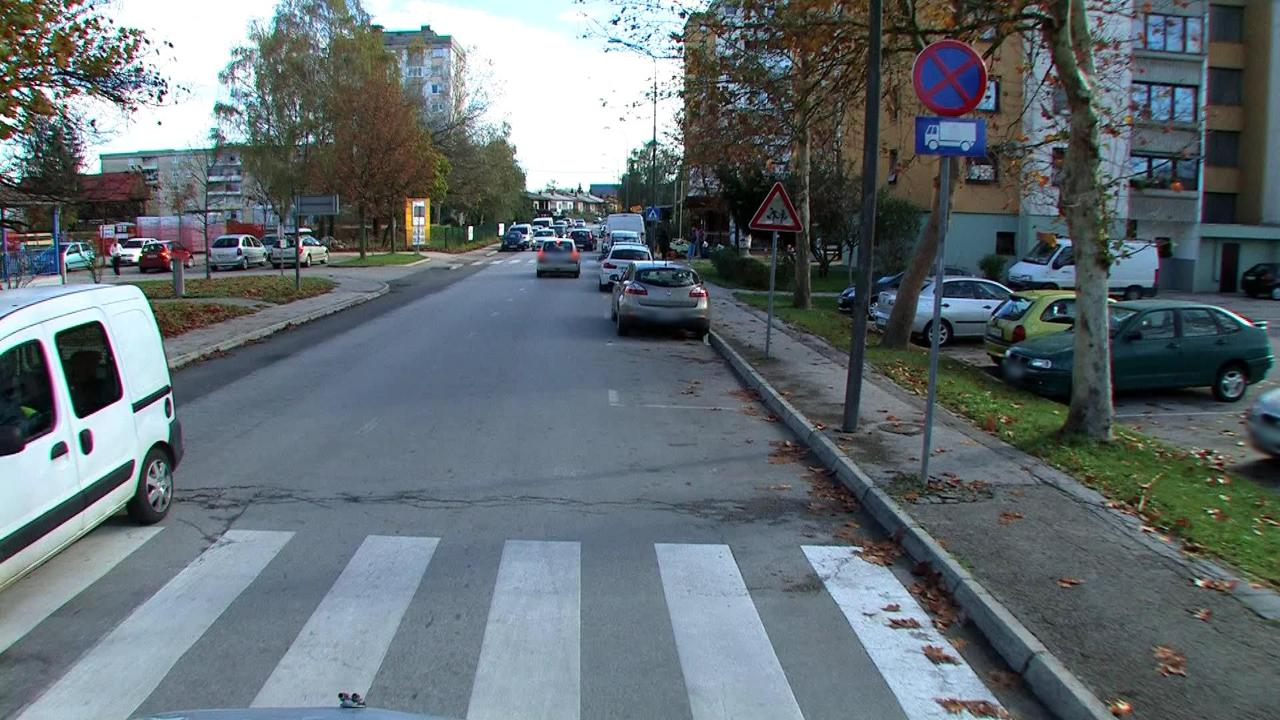Rectangle: (917, 118, 989, 154)
Triangle: (912, 39, 990, 115), (750, 179, 804, 235)
